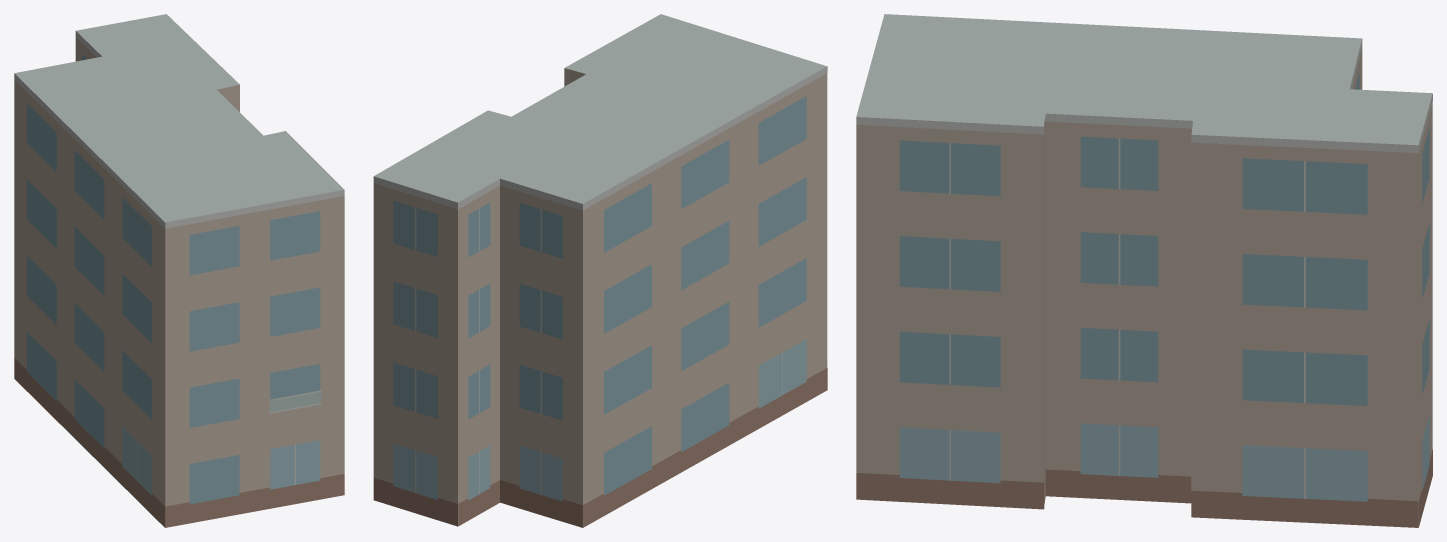
File: survey-upis-32589790.glb
3 views of the same model, side by side, from view 1: azimuth 30°, elevation 25°; view 2: azimuth 150°, elevation 25°; view 3: azimuth 270°, elevation 25° (orthographic). The views are drawn at different scales.
Parts seen in each view (by area): view 1: survey-upis-32589790.tmp; view 2: survey-upis-32589790.tmp; view 3: survey-upis-32589790.tmp.
Boxes of the visible parts, x1,y1,x2,y2 form: survey-upis-32589790.tmp: (14,14,344,527); survey-upis-32589790.tmp: (373,14,827,527); survey-upis-32589790.tmp: (856,14,1432,527).
Size of the model in its own units: 8.73 by 11.85 by 16.19.
